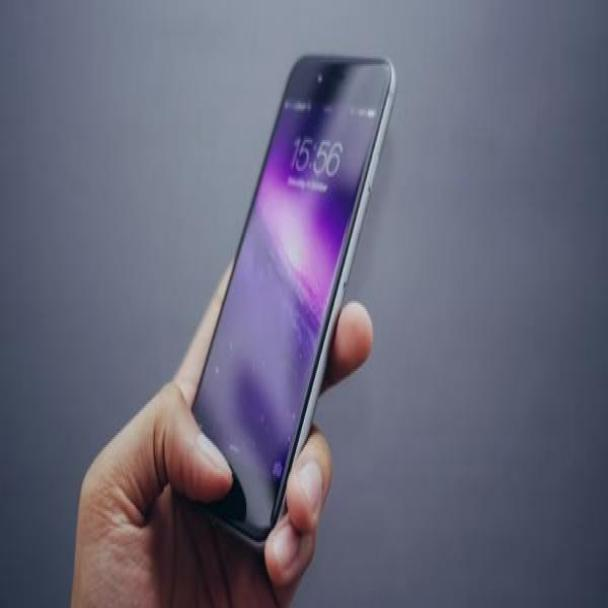Handphone: (166, 55, 397, 569)
